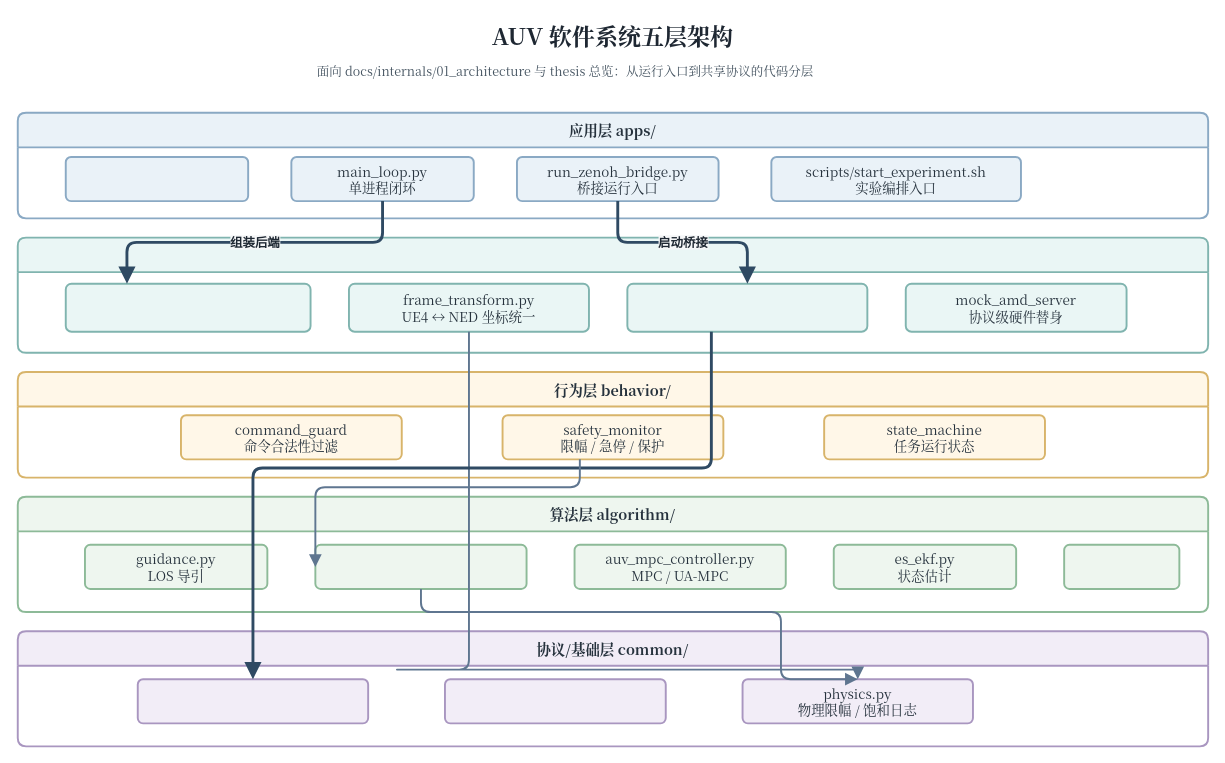
Image size: 1225x763. Some labels were removed from this diagram. Each missing label, with the box of its shape:
auv_pid_controller.py 级联 PID: (314, 543, 527, 589)
enums.py 模式 / 指令 / 状态: (444, 678, 666, 724)
main.py 独立仿真入口: (64, 156, 249, 202)
protocol.py Topic / Payload 契约: (136, 678, 369, 724)
sim_wrapper / pvs_sim_wrapper HoloOcean / PVS 后端: (64, 282, 311, 332)
trajectory_generator.py 轨迹生成: (1063, 543, 1180, 589)
zenoh_bridge / protocol_udp 跨进程通信桥接: (626, 282, 868, 332)
接口层 interfaces/: (16, 236, 1209, 353)
